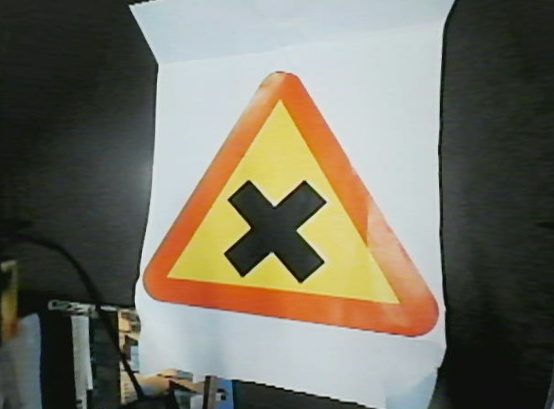junction: (137, 69, 443, 339)
